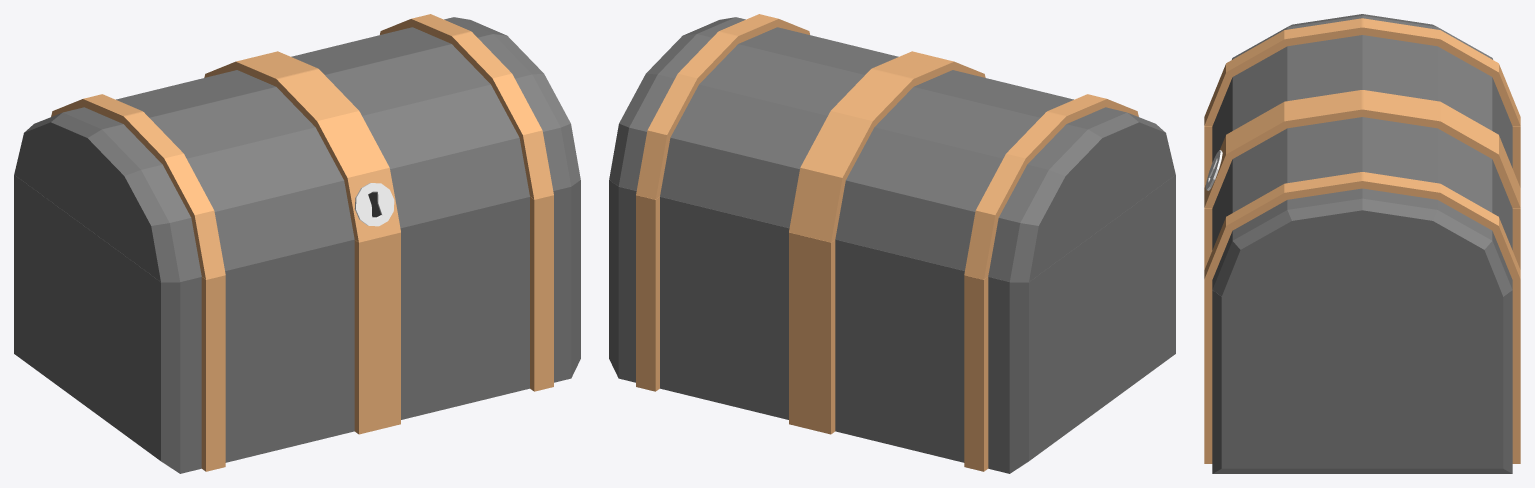
The model's file is Package.fbx.
3 views of the same model, side by side, from view 1: azimuth 30°, elevation 25°; view 2: azimuth 150°, elevation 25°; view 3: azimuth 270°, elevation 25° (orthographic). The views are drawn at different scales.
Visible parts, largest first — view 1: Package, Package Door; view 2: Package, Package Door; view 3: Package Door, Package.
Part boxes in pixels (left/top/right/bottom): Package: left=14, top=175, right=580, bottom=473; Package Door: left=14, top=14, right=580, bottom=281; Package: left=609, top=175, right=1175, bottom=473; Package Door: left=609, top=14, right=1175, bottom=281; Package Door: left=1204, top=14, right=1520, bottom=296; Package: left=1204, top=126, right=1520, bottom=473.
Bounding box in the file's own units: 0.7496 × 0.5033 × 0.5106.
